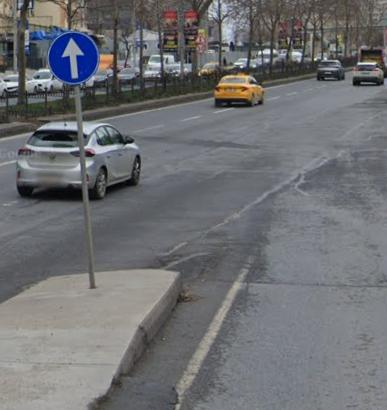forward: (46, 32, 102, 85)
